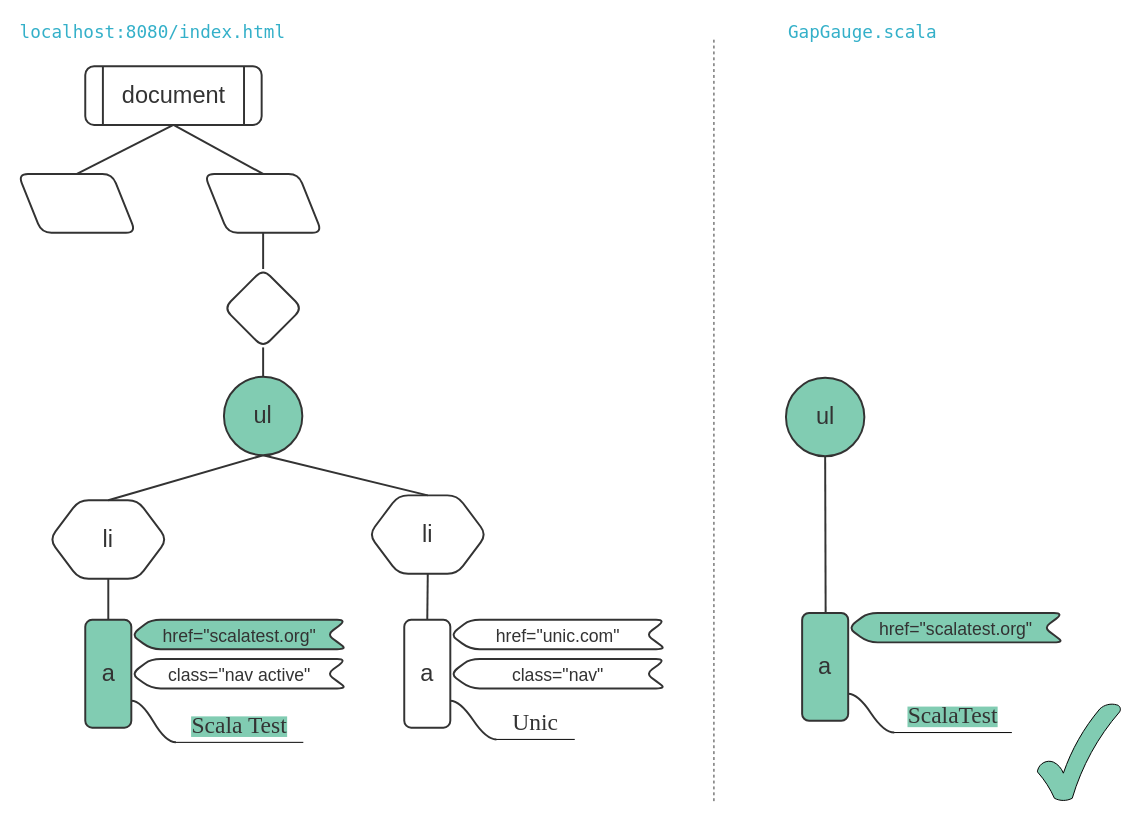
This 1138x819 diagram has some shape labels left out. The shapes that lost their labels are listed below. From the top down, each one's centre as x and y in pixels, then its label:
pixel 76 202: header
pixel 262 202: body
pixel 262 308: div
